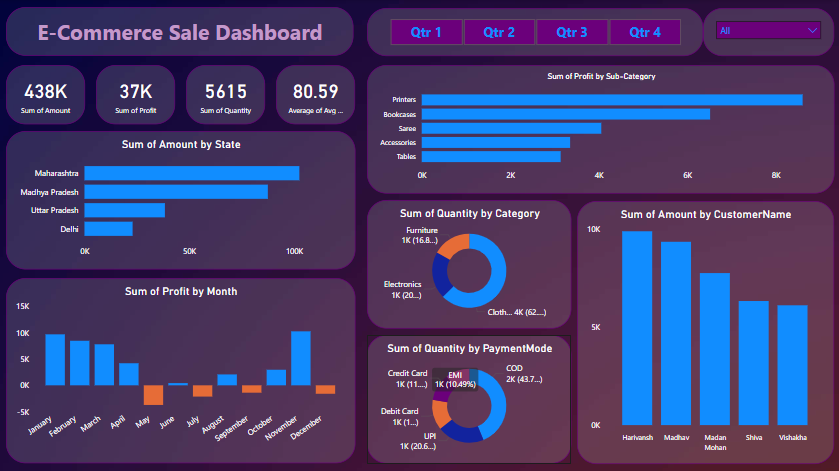

The dashboard page shown, as its layout file describes it:
{"tool":"powerbi","page":{"name":"Page 1","canvas":[1280,720],"ordinal":0},"visuals":[{"type":"columnChart","fields":{"Category":["Orders.Order Date.Variation.Date Hierarchy.Month"],"Y":["Details.Profit"]},"box":[12.5,423.9,529.5,280.7],"z":0},{"type":"barChart","fields":{"Y":["Details.Profit"],"Category":["Details.Sub-Category"]},"box":[559.1,100,709.1,195.5],"z":1000},{"type":"barChart","fields":{"Category":["Orders.State"],"Y":["Details.Amount"]},"box":[12.5,200,529.5,210.2],"z":2000},{"type":"columnChart","fields":{"Category":["Orders.CustomerName"],"Y":["Details.Amount"]},"box":[878.4,305.7,389.8,398.9],"z":3000},{"type":"donutChart","fields":{"Y":["Details.Quantity"],"Category":["Details.Category"]},"box":[559.1,304.5,310.2,195.5],"z":4000},{"type":"donutChart","fields":{"Category":["Details.PaymentMode"],"Y":["Details.Quantity"]},"box":[559.1,509.1,310.2,195.5],"z":5000},{"type":"card","fields":{"Values":["Details.Profit"]},"box":[148.6,100,120.5,89.8],"z":6000},{"type":"card","fields":{"Values":["Details.Quantity"]},"box":[285.1,100,120.5,89.8],"z":7000},{"type":"card","fields":{"Values":["Details.Amount"]},"box":[12.5,100,120,90],"z":8000},{"type":"card","fields":{"Values":["Details.Avg Order Value"]},"box":[421.6,100,120.5,90],"z":9000},{"type":"textbox","box":[12.5,12.5,527.3,73.9],"z":10000},{"type":"slicer","fields":{"Values":["Orders.Order Date.Variation.Date Hierarchy.Quarter"]},"box":[559.4,13.6,510.2,72.7],"z":11000},{"type":"slicer","fields":{"Values":["Orders.State"]},"box":[1069.3,13.6,198.9,72.7],"z":12000}]}

Visuals, with their boxes in screenshot pixels (x1, y1, x2, y2), scaled from the page's 1280x720 canvas onto the 839x471 screenshot:
columnChart - Orders.Order Date.Variation.Date Hierarchy.Month x Details.Profit: BBox(8, 277, 355, 461)
barChart - Details.Profit x Details.Sub-Category: BBox(366, 65, 831, 193)
barChart - Orders.State x Details.Amount: BBox(8, 131, 355, 268)
columnChart - Orders.CustomerName x Details.Amount: BBox(576, 200, 831, 461)
donutChart - Details.Quantity x Details.Category: BBox(366, 199, 570, 327)
donutChart - Details.PaymentMode x Details.Quantity: BBox(366, 333, 570, 461)
card - Details.Profit: BBox(97, 65, 176, 124)
card - Details.Quantity: BBox(187, 65, 266, 124)
card - Details.Amount: BBox(8, 65, 87, 124)
card - Details.Avg Order Value: BBox(276, 65, 355, 124)
textbox: BBox(8, 8, 354, 57)
slicer - Orders.Order Date.Variation.Date Hierarchy.Quarter: BBox(367, 9, 701, 56)
slicer - Orders.State: BBox(701, 9, 831, 56)
